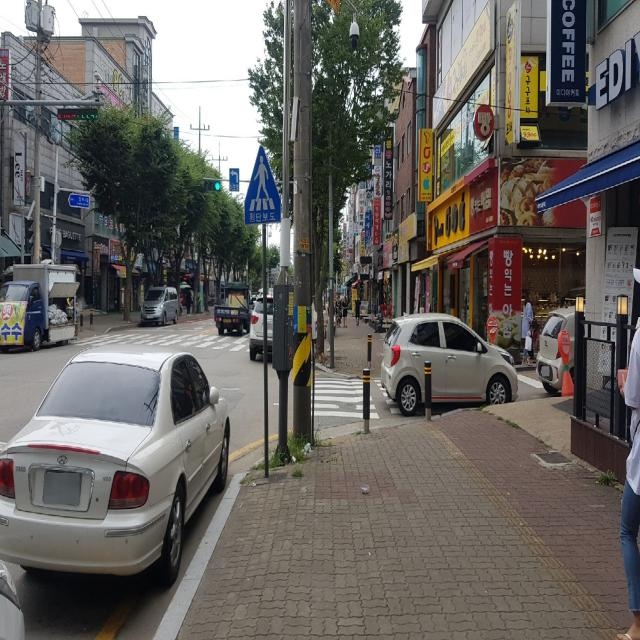횡단보도: (310, 378, 443, 420), (83, 332, 248, 349)
